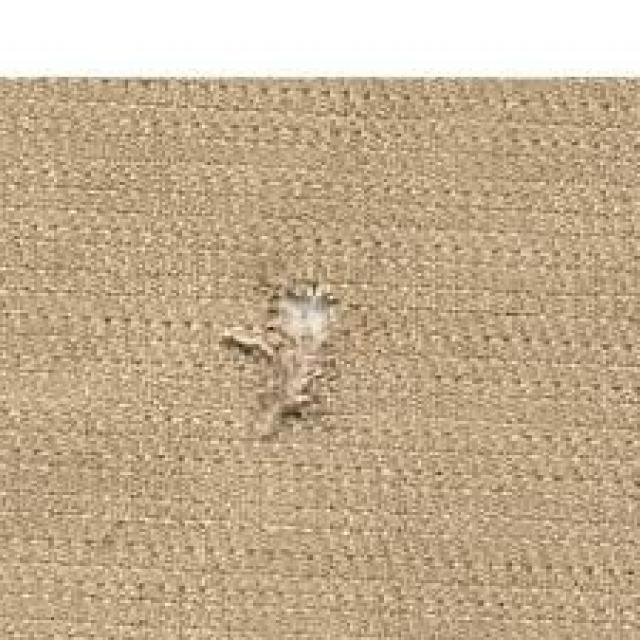other: (226, 244, 394, 474)
